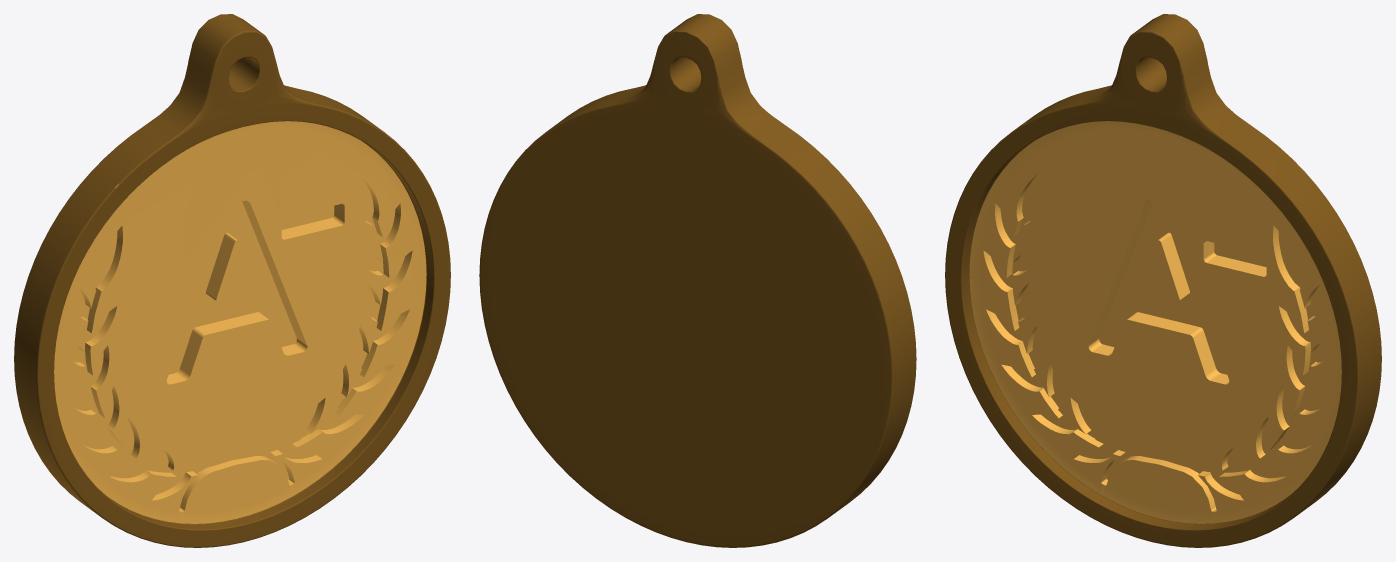
Rendered from medalAminus.glb.
The picture shows the model from 3 angles, left to right: view 1: azimuth 30°, elevation 25°; view 2: azimuth 150°, elevation 25°; view 3: azimuth 330°, elevation 25°; orthographic projection.
Visible parts, largest first — view 1: medalAMinus; view 2: medalAMinus; view 3: medalAMinus.
Part boxes in pixels (x1,y1,x2,y2): medalAMinus: [14, 14, 450, 547]; medalAMinus: [479, 14, 916, 547]; medalAMinus: [945, 14, 1381, 547].
Size of the model in its own units: 19.72 by 23.25 by 2.
Materials: 1 (1 with a texture image).
